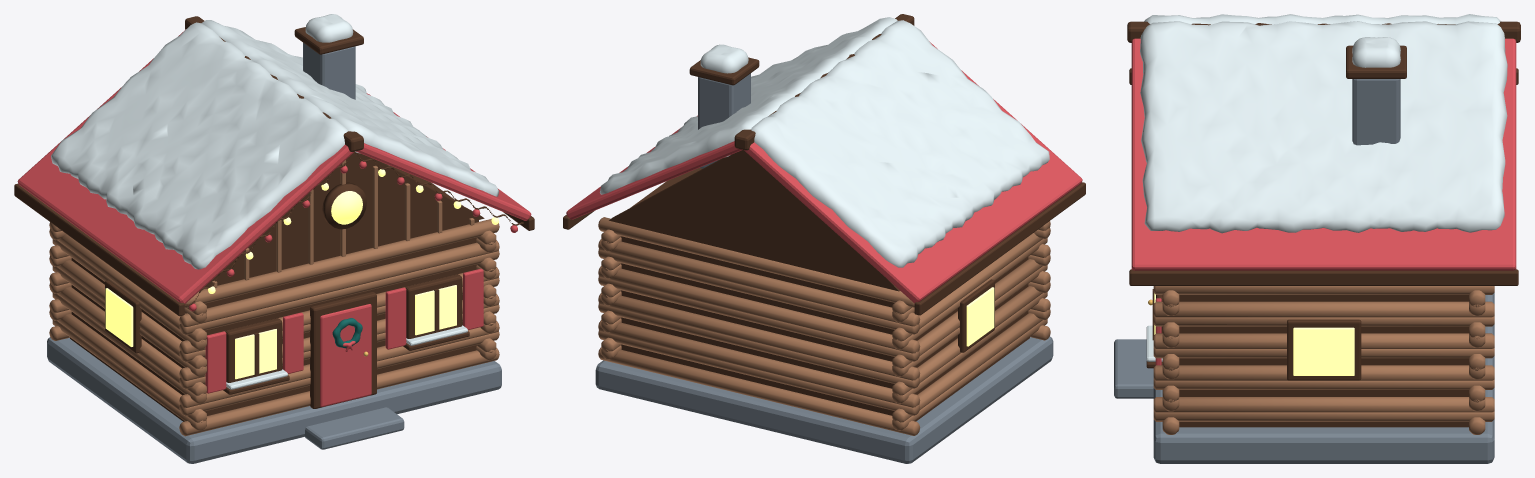
Rendered from lodge.glb.
3 renders of one model, left to right at view 1: azimuth 30°, elevation 25°; view 2: azimuth 150°, elevation 25°; view 3: azimuth 270°, elevation 25°, orthographic. The views are drawn at different scales.
Parts seen in each view (by area): view 1: lodge; view 2: lodge; view 3: lodge.
Part boxes in pixels (left/top/right/bottom): lodge: left=14, top=14, right=534, bottom=463; lodge: left=563, top=14, right=1085, bottom=463; lodge: left=1114, top=14, right=1520, bottom=463.
Size of the model in its own units: 5.54 by 4.77 by 4.65.
